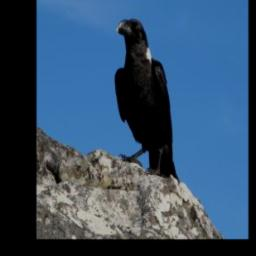Crow: (113, 15, 181, 185)
